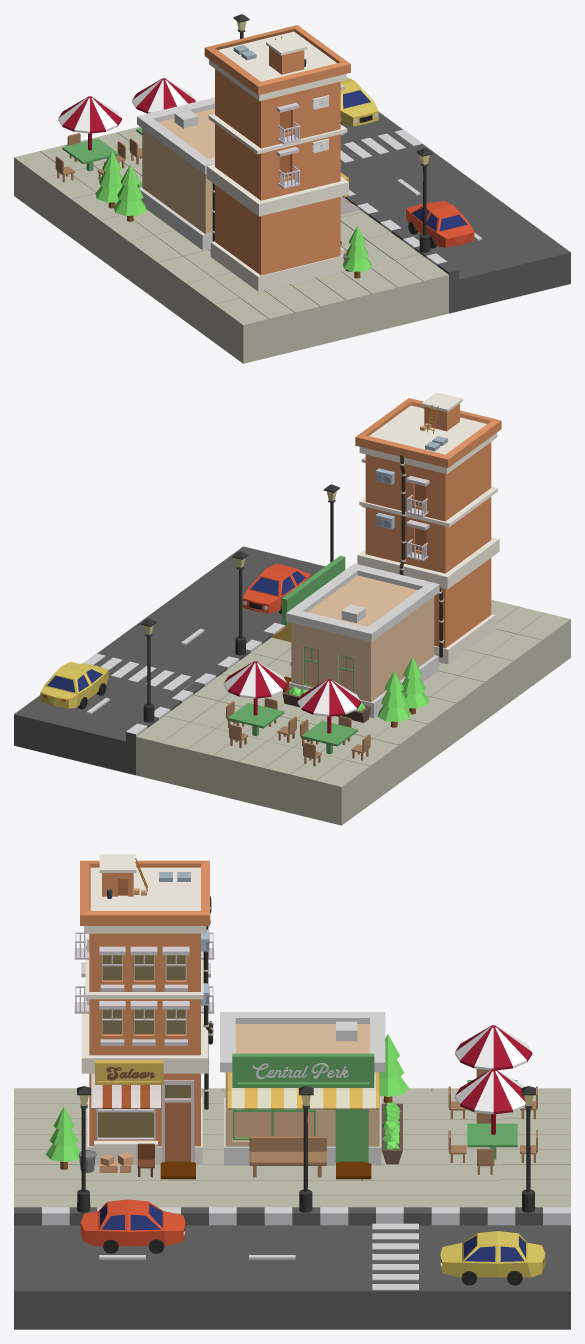
Rendered from City_Street_Low-Poly_Apartment_amp_Cafe_Scene.glb.
3 views of the same model, one above another, from view 1: azimuth 30°, elevation 25°; view 2: azimuth 150°, elevation 25°; view 3: azimuth 270°, elevation 25° (orthographic). The views are drawn at different scales.
Parts seen in each view (by area): view 1: Plane.008_Material.013_0, Plane.002_Material.014_0, Cube.001_Material.001_0, Cube_Material.001_0, Cube.090_Material_0, Cube.057_Material.002_0, Cube.002_Material.002_0, Cube.037_Material.002_0, Cube.036_Material.026_0, Cube.043_Material.042_0, Cube.038_Material.026_0, Cube.046_Material.046_0 (+14 smaller); view 2: Plane.008_Material.013_0, Plane.002_Material.014_0, Cube.001_Material.001_0, Cube.090_Material_0, Cube.036_Material.026_0, Cube.057_Material.002_0, Cube_Material.001_0, Cube.002_Material.002_0, Cube.046_Material.046_0, Cube.043_Material.042_0, Cube.096_Material.027_0, Plane.014_Material.003_0 (+16 smaller); view 3: Plane.002_Material.014_0, Plane.008_Material.013_0, Cube.001_Material.001_0, Cube.090_Material_0, Cube.096_Material.027_0, Cube.057_Material.002_0, Plane.011_Material.014_0, Plane.012_Material.003_0, Cube.036_Material.026_0, Cube.046_Material.046_0, Cube.043_Material.042_0, Cube.032_Material.021_0 (+33 smaller).
Part boxes in pixels (bbox=[...]): Plane.008_Material.013_0: bbox=[14, 126, 448, 363]; Plane.002_Material.014_0: bbox=[340, 112, 570, 313]; Cube.001_Material.001_0: bbox=[204, 25, 350, 200]; Cube_Material.001_0: bbox=[215, 185, 340, 275]; Cube.090_Material_0: bbox=[142, 108, 214, 234]; Cube.057_Material.002_0: bbox=[209, 31, 346, 101]; Cube.002_Material.002_0: bbox=[206, 164, 348, 216]; Cube.037_Material.002_0: bbox=[210, 241, 343, 291]; Cube.036_Material.026_0: bbox=[137, 97, 214, 173]; Cube.043_Material.042_0: bbox=[406, 200, 474, 247]; Cube.038_Material.026_0: bbox=[139, 187, 212, 250]; Cube.046_Material.046_0: bbox=[340, 77, 378, 126]; Plane.008_Material.013_0: bbox=[136, 599, 570, 825]; Plane.002_Material.014_0: bbox=[14, 546, 324, 775]; Cube.001_Material.001_0: bbox=[355, 398, 501, 573]; Cube.090_Material_0: bbox=[291, 575, 434, 701]; Cube.036_Material.026_0: bbox=[286, 563, 439, 641]; Cube.057_Material.002_0: bbox=[359, 405, 497, 473]; Cube_Material.001_0: bbox=[434, 558, 491, 648]; Cube.002_Material.002_0: bbox=[357, 537, 499, 589]; Cube.046_Material.046_0: bbox=[40, 661, 108, 708]; Cube.043_Material.042_0: bbox=[242, 563, 310, 613]; Cube.096_Material.027_0: bbox=[281, 555, 345, 625]; Plane.014_Material.003_0: bbox=[83, 653, 198, 692]; Plane.002_Material.014_0: bbox=[14, 1225, 570, 1329]; Plane.008_Material.013_0: bbox=[14, 1088, 570, 1207]; Cube.001_Material.001_0: bbox=[80, 860, 209, 1055]; Cube.090_Material_0: bbox=[225, 1024, 379, 1146]; Cube.096_Material.027_0: bbox=[232, 1053, 374, 1087]; Cube.057_Material.002_0: bbox=[84, 867, 206, 933]; Plane.011_Material.014_0: bbox=[14, 1207, 542, 1225]; Plane.012_Material.003_0: bbox=[42, 1207, 570, 1225]; Cube.036_Material.026_0: bbox=[220, 1012, 385, 1072]; Cube.046_Material.046_0: bbox=[440, 1231, 545, 1277]; Cube.043_Material.042_0: bbox=[80, 1199, 185, 1246]; Cube.032_Material.021_0: bbox=[102, 955, 185, 1034].
Size of the model in its own units: 8.23 by 6.44 by 9.97.
